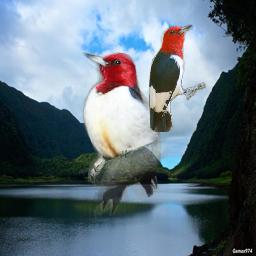Woodpecker: (79, 52, 164, 221), (148, 24, 206, 132)
